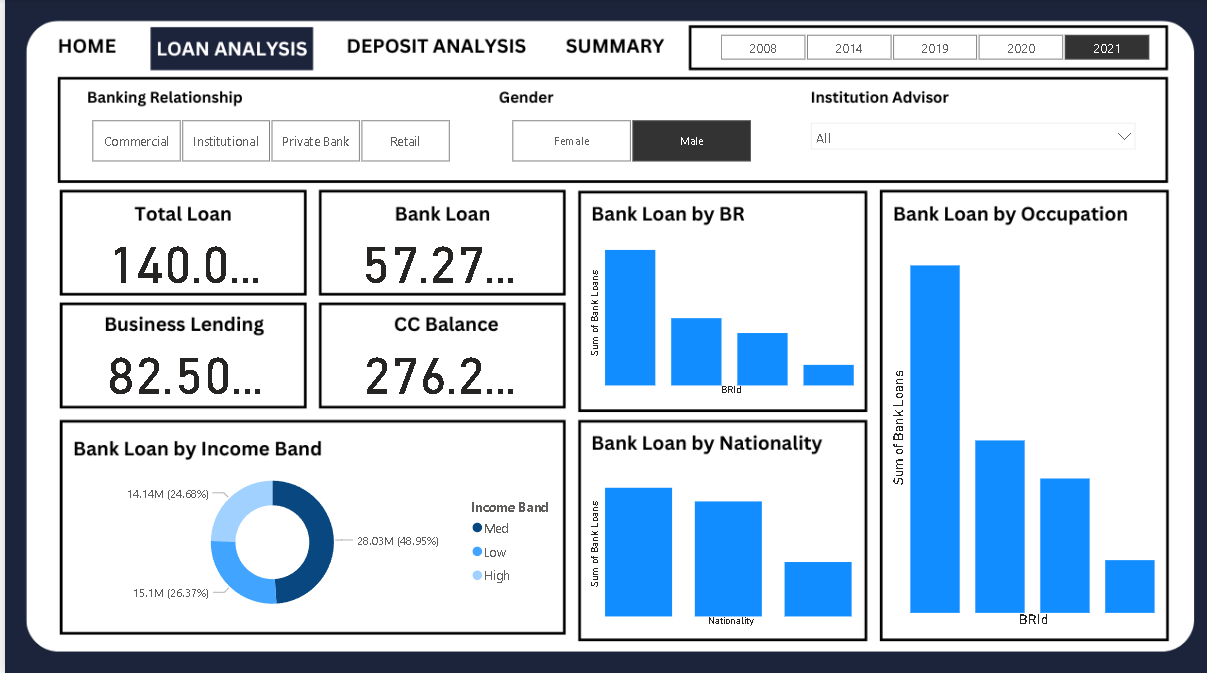

The dashboard page shown, as its layout file describes it:
{"tool":"powerbi","page":{"name":"Loan Analysis","canvas":[1280,720],"ordinal":2},"visuals":[{"type":"slicer","fields":{"Values":["banking_case customer.Year of Joining"]},"box":[733.3,32.2,504.1,34.9],"z":0},{"type":"actionButton","box":[36.4,31.7,99.7,39.6],"z":1000},{"type":"actionButton","box":[348.2,31.7,221.6,39.6],"z":2000},{"type":"actionButton","box":[587.1,31.7,123.4,39.6],"z":3000},{"type":"card","fields":{"Values":["banking_case customer.Total Loan"]},"box":[100.9,243.7,179.5,65.5],"z":4000},{"type":"card","fields":{"Values":["Sum(banking_case customer.Bank Loans)"]},"box":[369.5,243.7,179.5,65.5],"z":5000},{"type":"card","fields":{"Values":["Sum(banking_case customer.Business Lending)"]},"box":[100.9,360.4,179.5,65.5],"z":6000},{"type":"card","fields":{"Values":["Sum(banking_case customer.Credit Card Balance)"]},"box":[370.8,360.4,179.5,65.5],"z":7000},{"type":"donutChart","fields":{"Category":["banking_case customer.Income Band"],"Y":["Sum(banking_case customer.Bank Loans)"]},"box":[66.8,488.8,530.7,176.9],"z":8000},{"type":"clusteredColumnChart","fields":{"Category":["banking_case customer.BRId"],"Y":["Sum(banking_case customer.Bank Loans)"]},"box":[613.3,243.7,293.5,182.1],"z":9000},{"type":"clusteredColumnChart","fields":{"Category":["banking_case customer.Nationality"],"Y":["Sum(banking_case customer.Bank Loans)"]},"box":[613.3,488.8,293.5,182.1],"z":10000},{"type":"clusteredColumnChart","fields":{"Category":["banking_case customer.BRId"],"Y":["Sum(banking_case customer.Bank Loans)"]},"box":[933.7,245.3,292.8,425.7],"z":11000},{"type":"slicer","fields":{"Values":["banking_case customer.BRId"]},"box":[66.8,123.2,428.5,57.7],"z":12000},{"type":"slicer","fields":{"Values":["banking_case customer.GenderId"]},"box":[512.4,123.2,302.7,57.7],"z":13000},{"type":"slicer","fields":{"Values":["banking_case customer.IAId"]},"box":[843.9,123.2,364.3,57.7],"z":14000}]}

Visuals, with their boxes in screenshot pixels (x1, y1, x2, y2), scaled from the page's 1280x720 canvas onto the 1207x673 screenshot:
slicer - banking_case customer.Year of Joining: (691,30,1167,63)
actionButton: (34,30,128,67)
actionButton: (328,30,537,67)
actionButton: (554,30,670,67)
card - banking_case customer.Total Loan: (95,228,264,289)
card - Sum(banking_case customer.Bank Loans): (348,228,518,289)
card - Sum(banking_case customer.Business Lending): (95,337,264,398)
card - Sum(banking_case customer.Credit Card Balance): (350,337,519,398)
donutChart - banking_case customer.Income Band x Sum(banking_case customer.Bank Loans): (63,457,563,622)
clusteredColumnChart - banking_case customer.BRId x Sum(banking_case customer.Bank Loans): (578,228,855,398)
clusteredColumnChart - banking_case customer.Nationality x Sum(banking_case customer.Bank Loans): (578,457,855,627)
clusteredColumnChart - banking_case customer.BRId x Sum(banking_case customer.Bank Loans): (880,229,1157,627)
slicer - banking_case customer.BRId: (63,115,467,169)
slicer - banking_case customer.GenderId: (483,115,769,169)
slicer - banking_case customer.IAId: (796,115,1139,169)
